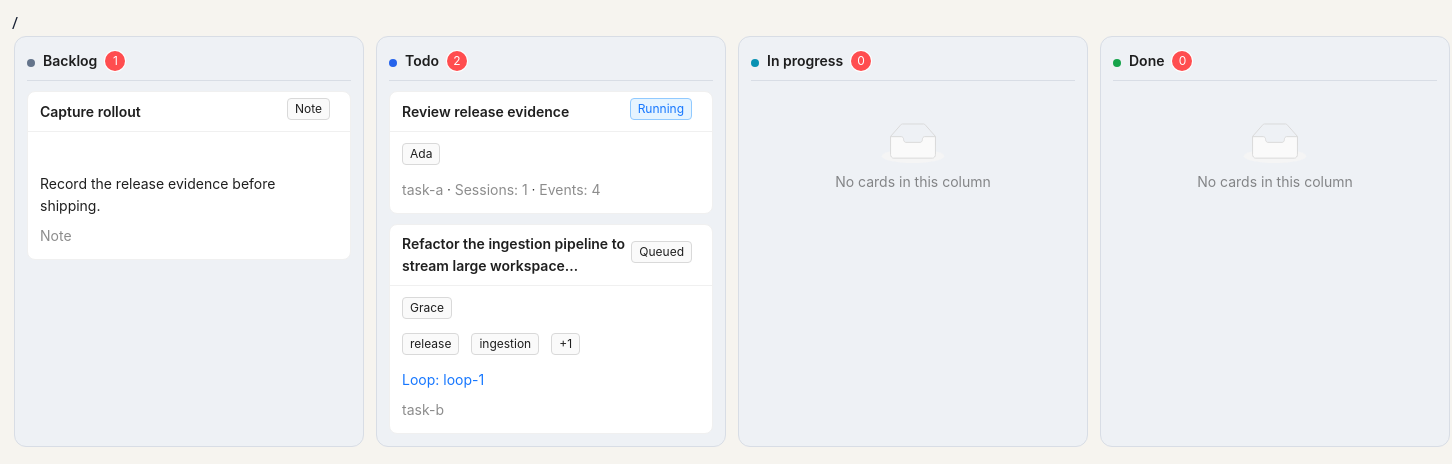
TaskBoardGrid card activation › navigates a task card without a session to the task detail route
What coordinates should you click on to do the following:
click the link with aria-label "Open task detail: Refactor the ingestion pipeline to stream"
I would click on:
 (551, 329)
Its box is [389,224,713,434].
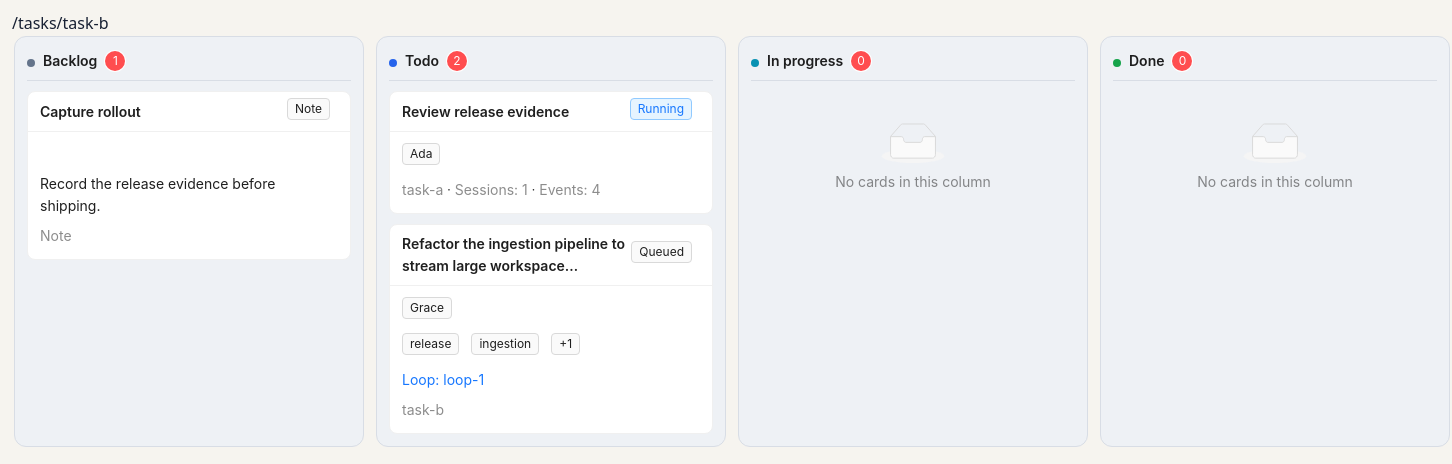
Expected: the text with test id "grid-location" reads "/tasks/task-b", [12,12,108,34]
